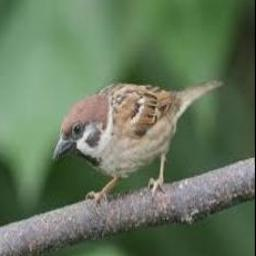Sparrow: (53, 79, 225, 204)
